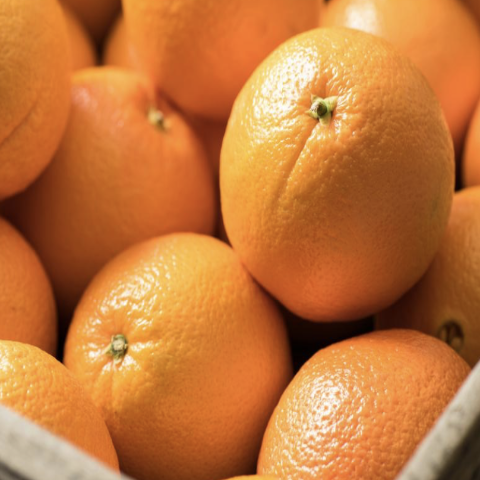orange: (206, 1, 463, 333), (47, 204, 304, 479)
